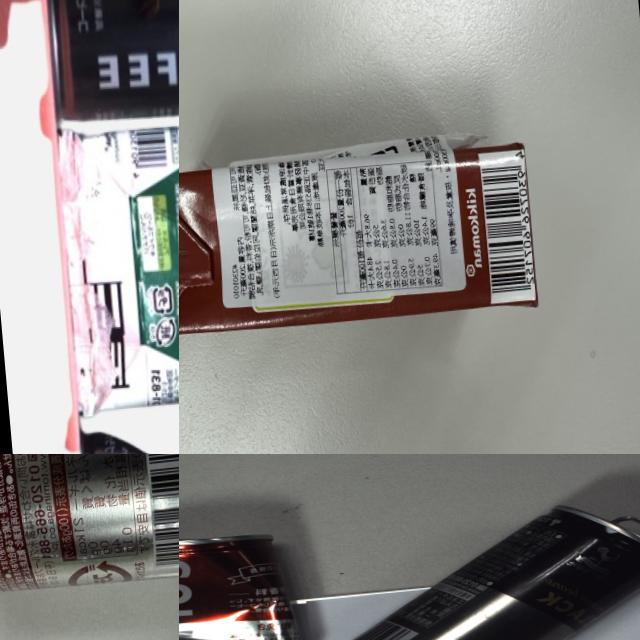Aluminium Foil: (179, 123, 545, 347), (53, 86, 179, 425)
Can: (311, 478, 640, 640), (0, 454, 179, 602), (44, 0, 179, 127), (179, 524, 306, 640)
